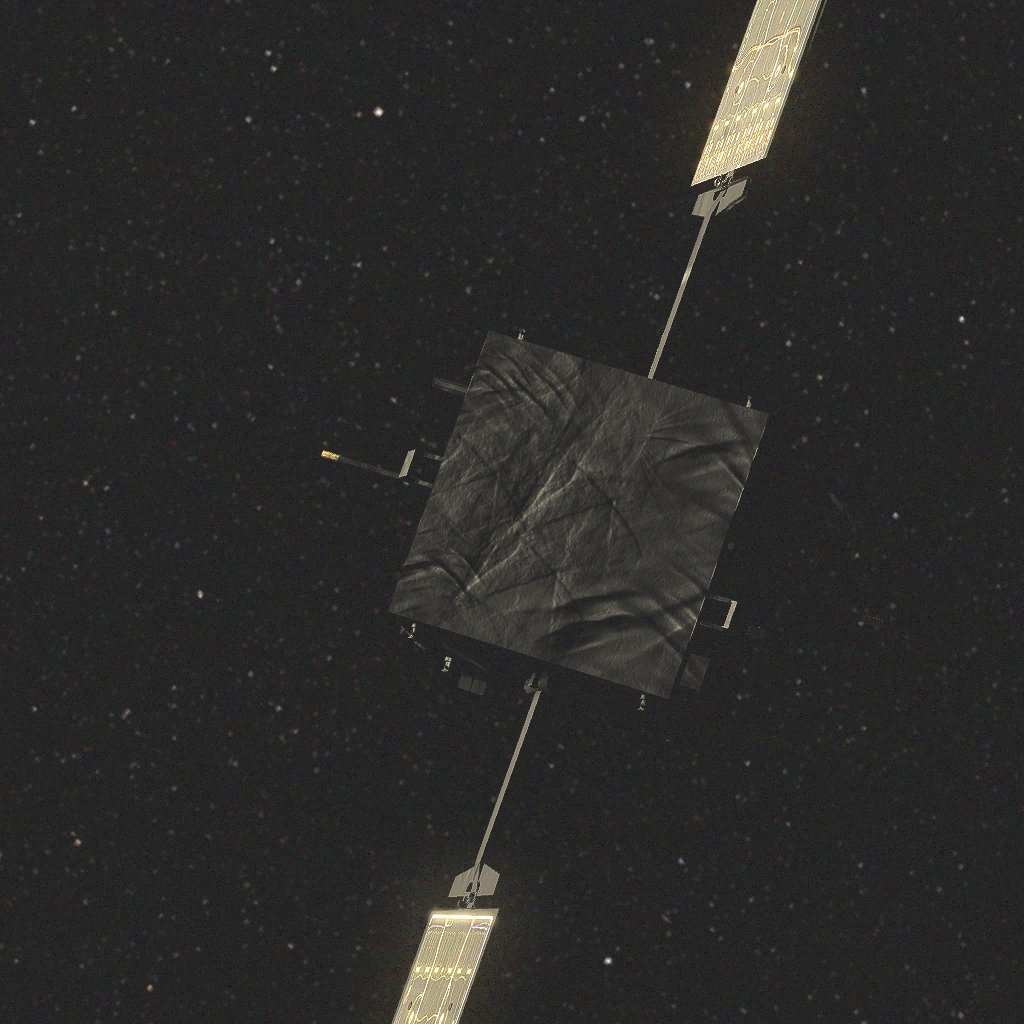smart_1: (329, 11, 828, 1005)
